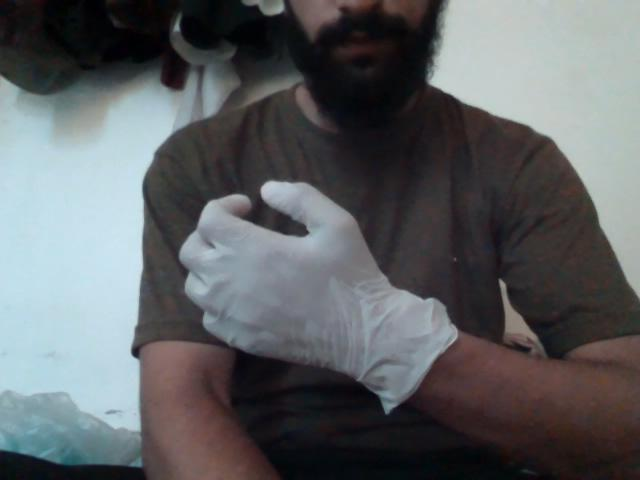gloves: (189, 161, 481, 403)
